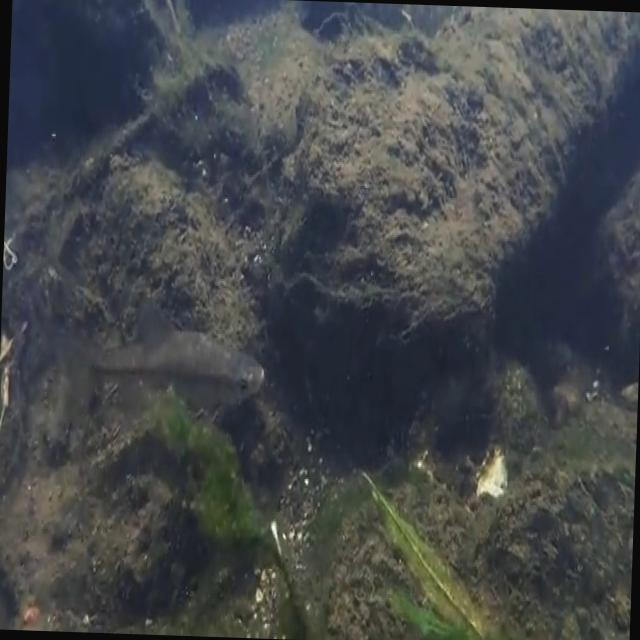Cakil Baligi: (67, 303, 270, 422)
